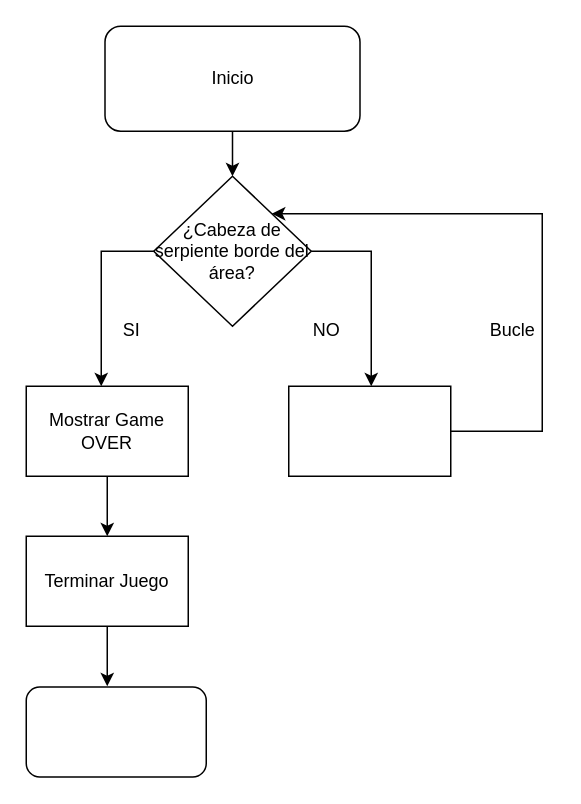
Image size: 581x804. Some labels were removed from this diagram. The shapes that lost their labels are listed below. From the top down, each one's centre as x and y in pixels, then its label:
the point at 369,430: Continuar Juego
the point at 115,731: FIN
